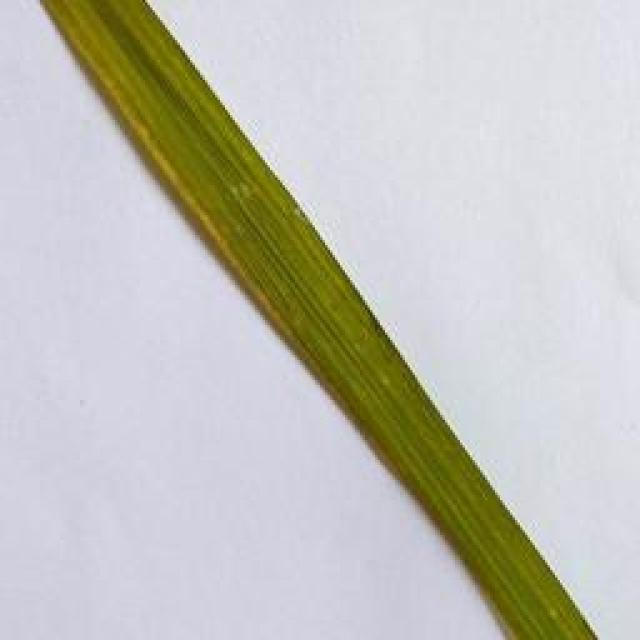Bacterial_Blight: (56, 22, 274, 326)
